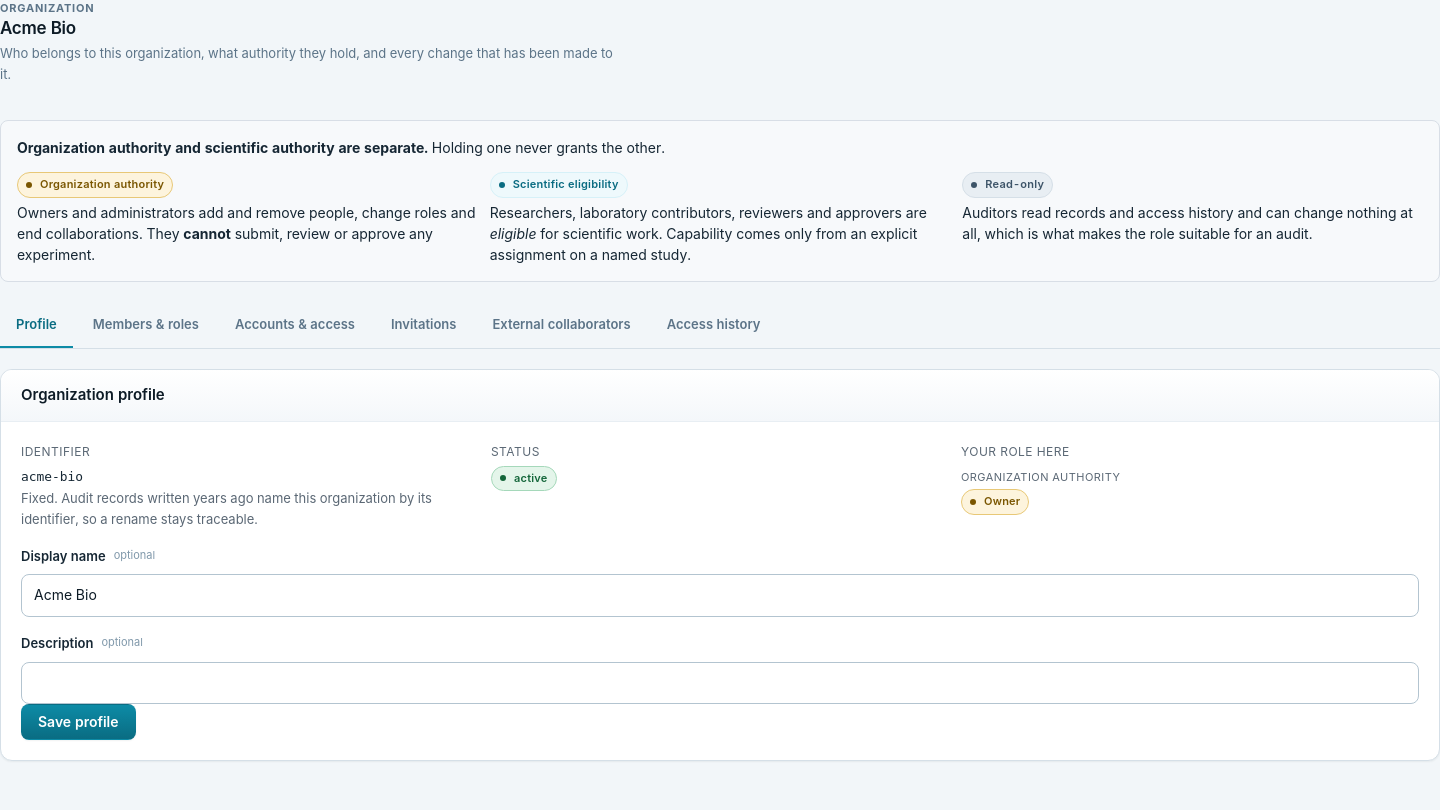
Test: confirmation of sensitive actions › will not remove a member until their name is typed
Click the tab "Members & roles". click: x=146, y=325
box: [77,302,215,348]
(page scrolled)
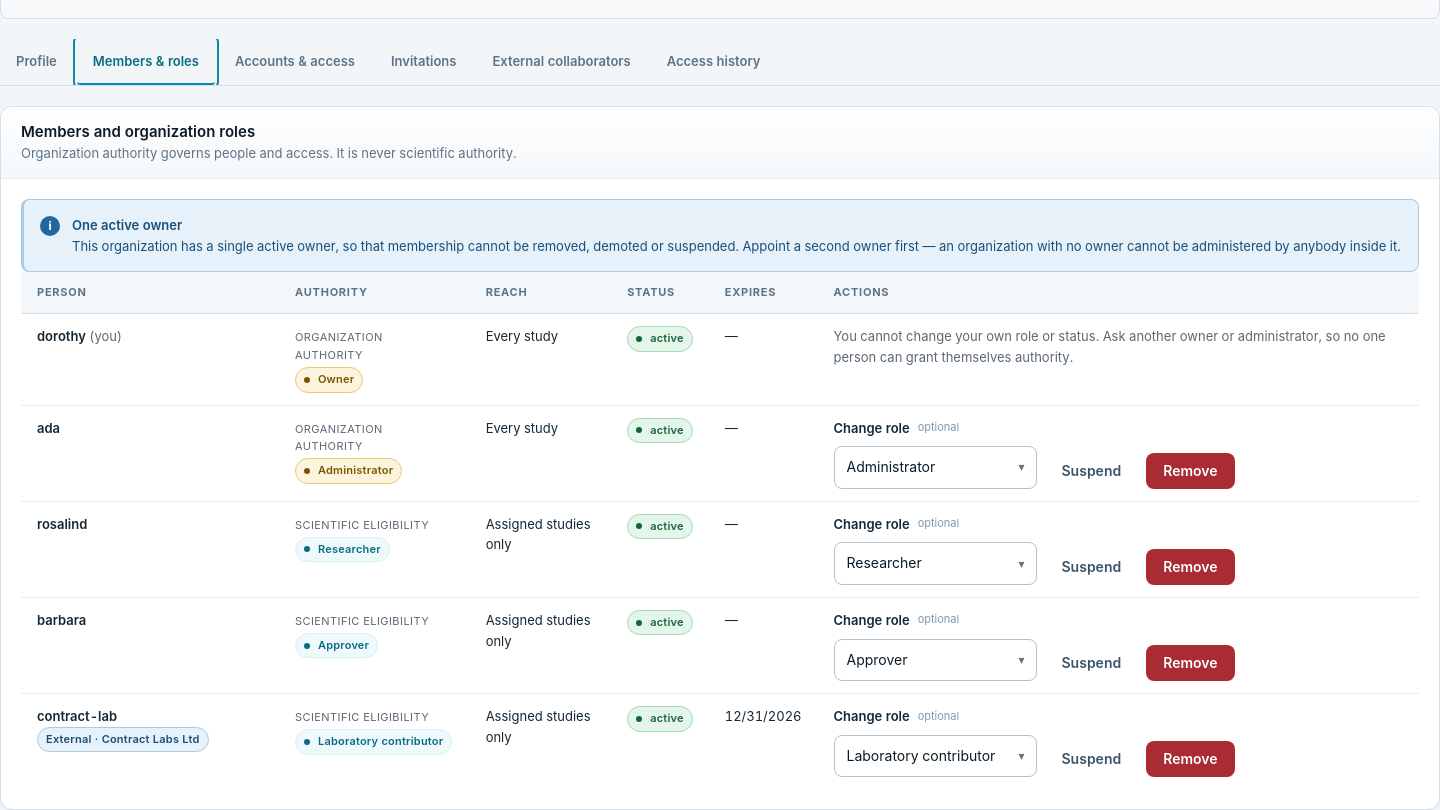
Now the button with test id "remove-rosalind" is shown
Click the button with test id "remove-rosalind". click: x=1190, y=567
box: [1146,549,1234,585]
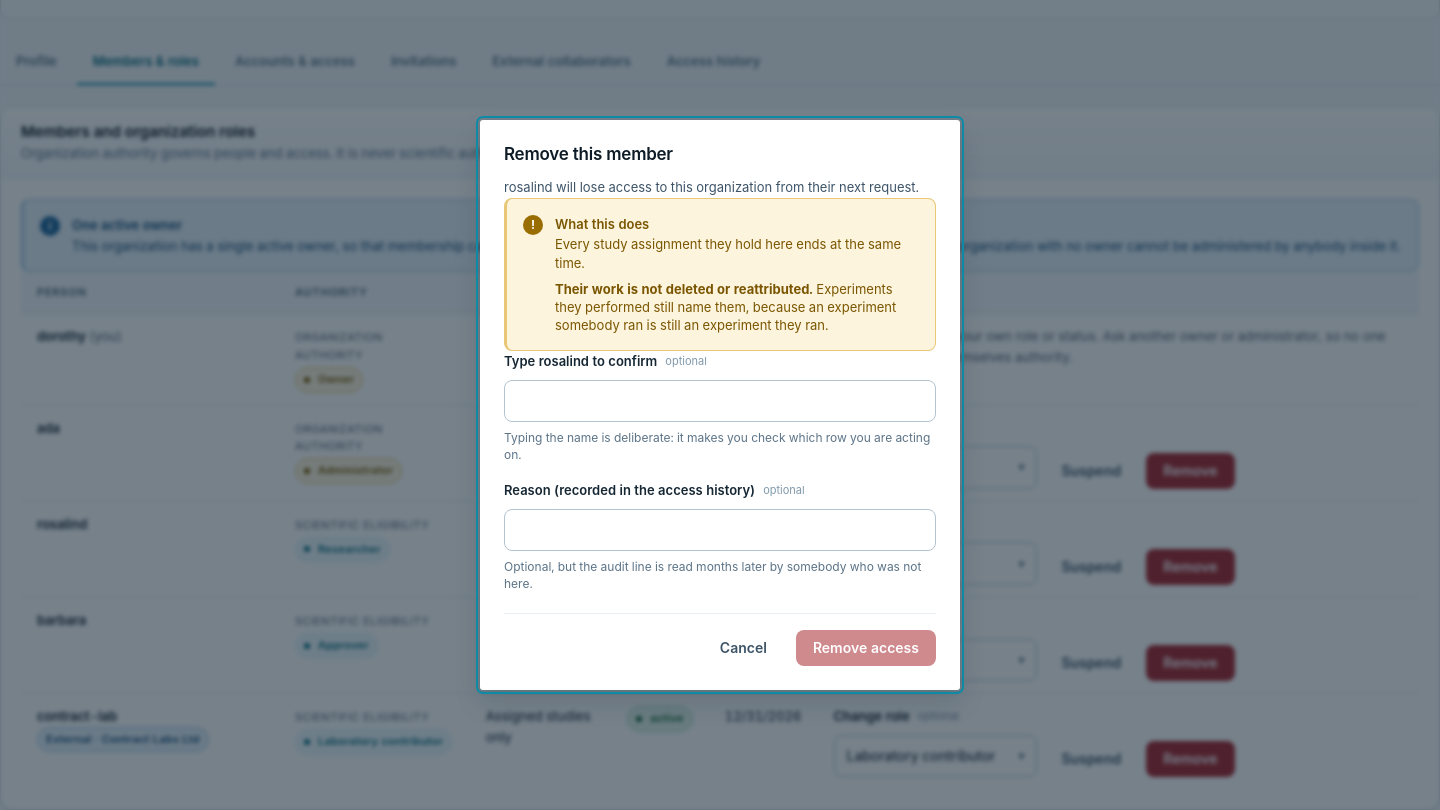
Now the button with test id "confirm-revoke-confirm" is disabled, box [796,630,936,666]
Type "ada" into the field labelled "Type rosalind to confirm". click: x=720, y=401
box: [504,380,936,422]
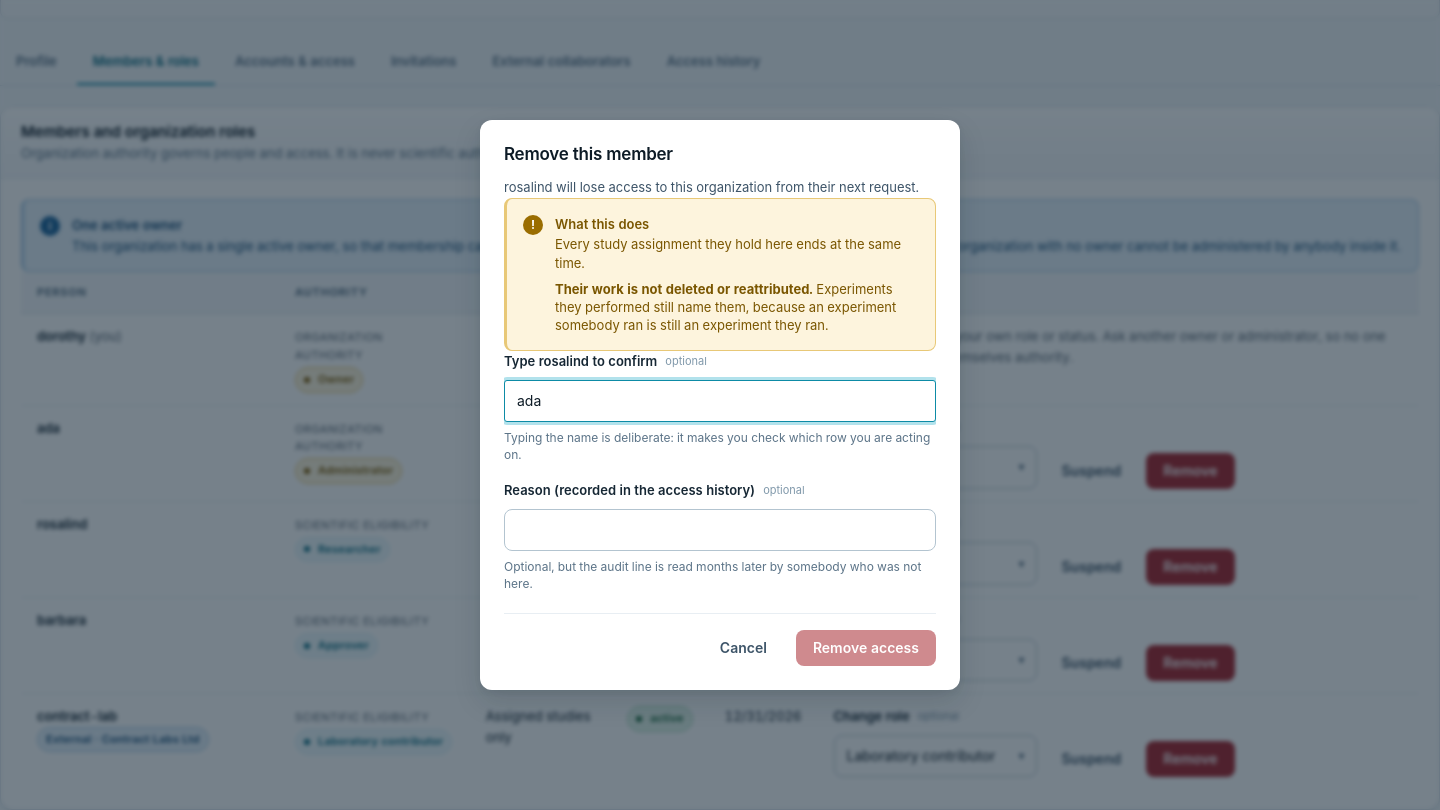
Now the button with test id "confirm-revoke-confirm" is disabled, box [796,630,936,666]
Replace the text in the field labelled "Type rosalind to confirm" with "rosalind". click: x=720, y=401
box: [504,380,936,422]
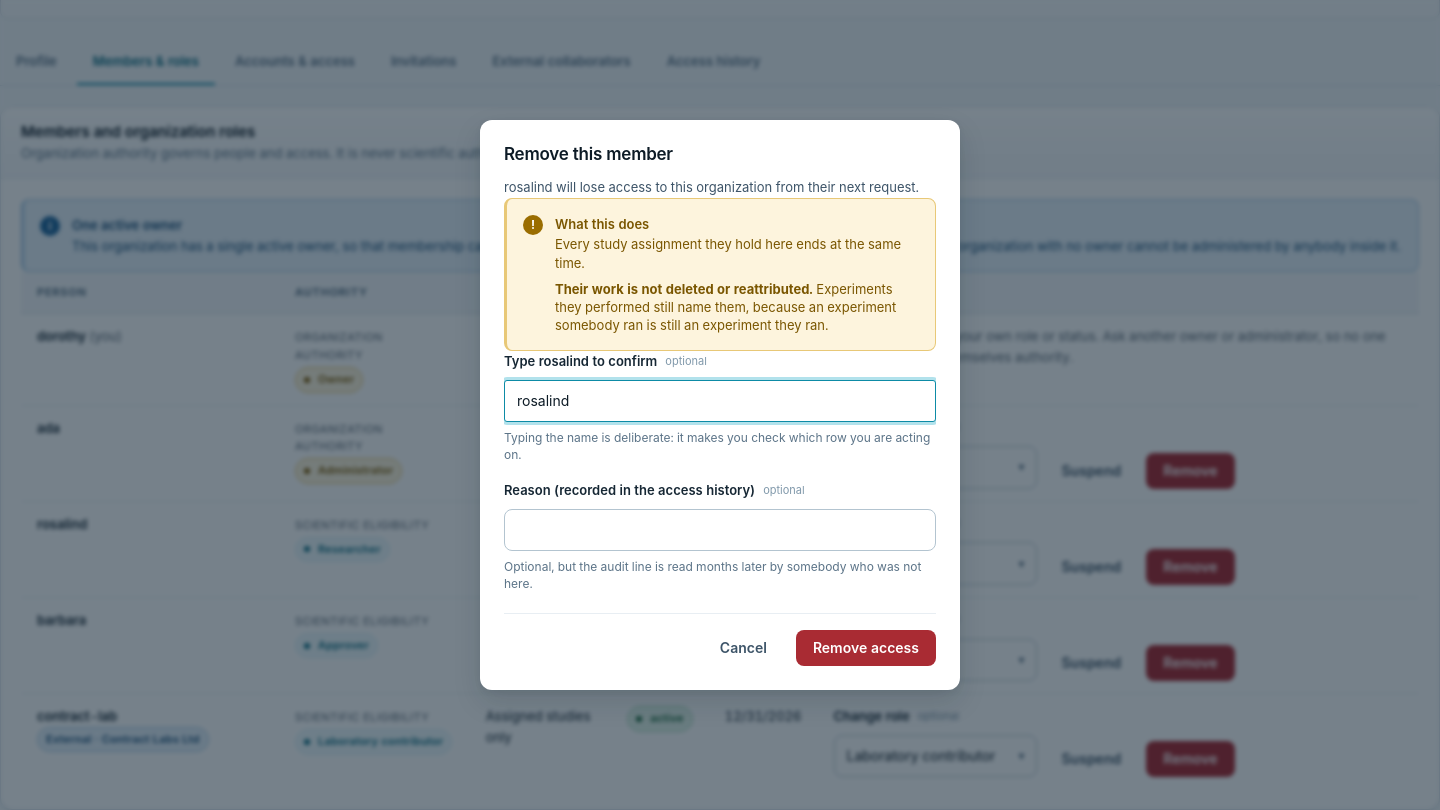
Now the button with test id "confirm-revoke-confirm" is enabled, box [796,630,936,666]
